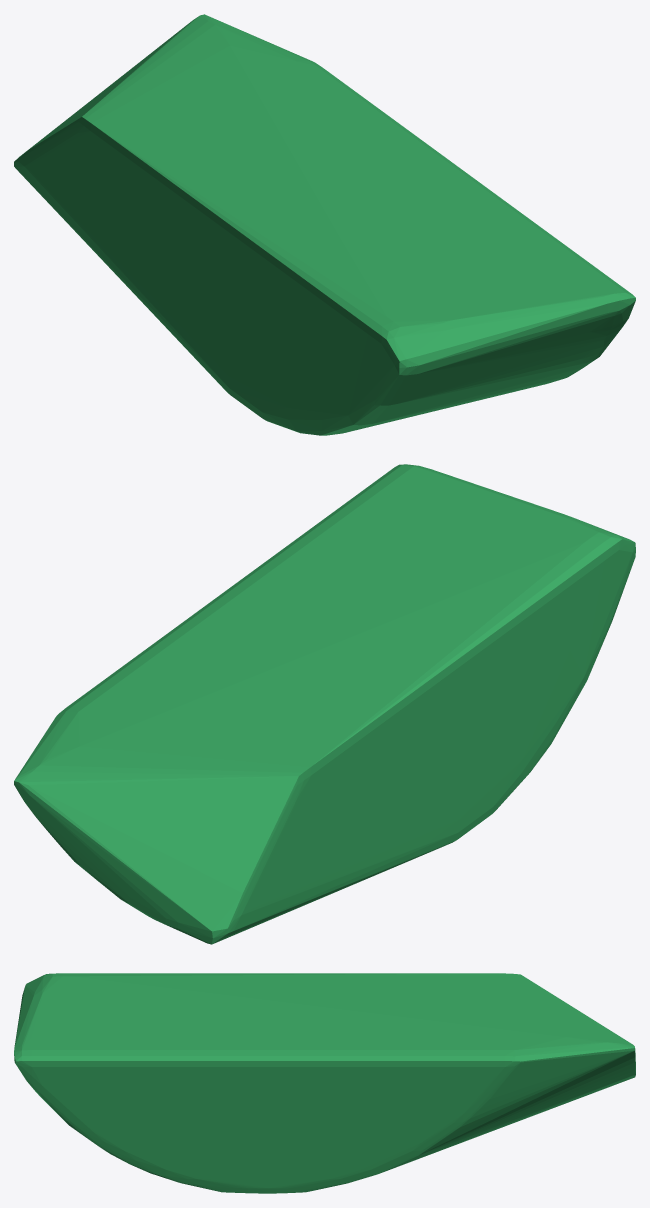
Rendered from right-hip-roll-0_part_10.obj.
3 views of the same model, one above another, from view 1: azimuth 30°, elevation 25°; view 2: azimuth 150°, elevation 25°; view 3: azimuth 270°, elevation 25° (orthographic). The views are drawn at different scales.
Size of the model in its own units: 0.0268 by 0.0199 by 0.0799.
